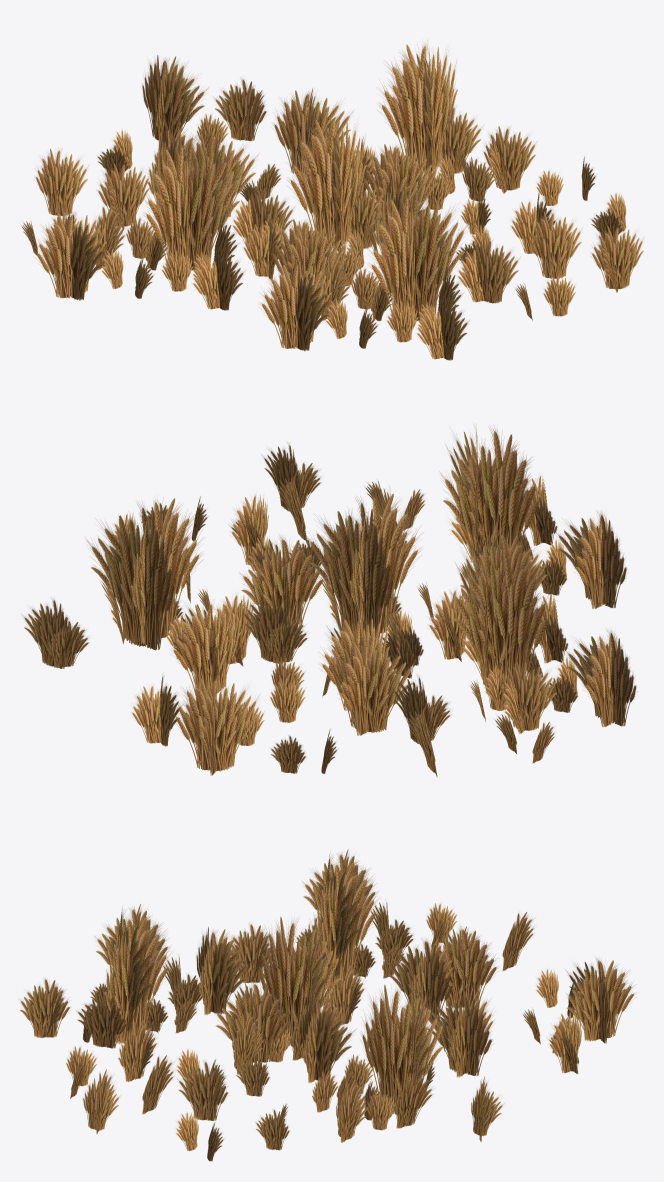
File: TRIGO.glb
3 renders of one model, top to bottom at view 1: azimuth 30°, elevation 25°; view 2: azimuth 150°, elevation 25°; view 3: azimuth 270°, elevation 25°, orthographic. The views are drawn at different scales.
Parts seen in each view (by area): view 1: YUYO SECO.001; view 2: YUYO SECO.001; view 3: YUYO SECO.001.
Part boxes in pixels (bbox=[...]): YUYO SECO.001: bbox=[21, 40, 643, 360]; YUYO SECO.001: bbox=[22, 426, 637, 777]; YUYO SECO.001: bbox=[19, 849, 635, 1161].
Size of the model in its own units: 3.61 by 0.9027 by 3.85.
Materials: 1 (1 with a texture image).
